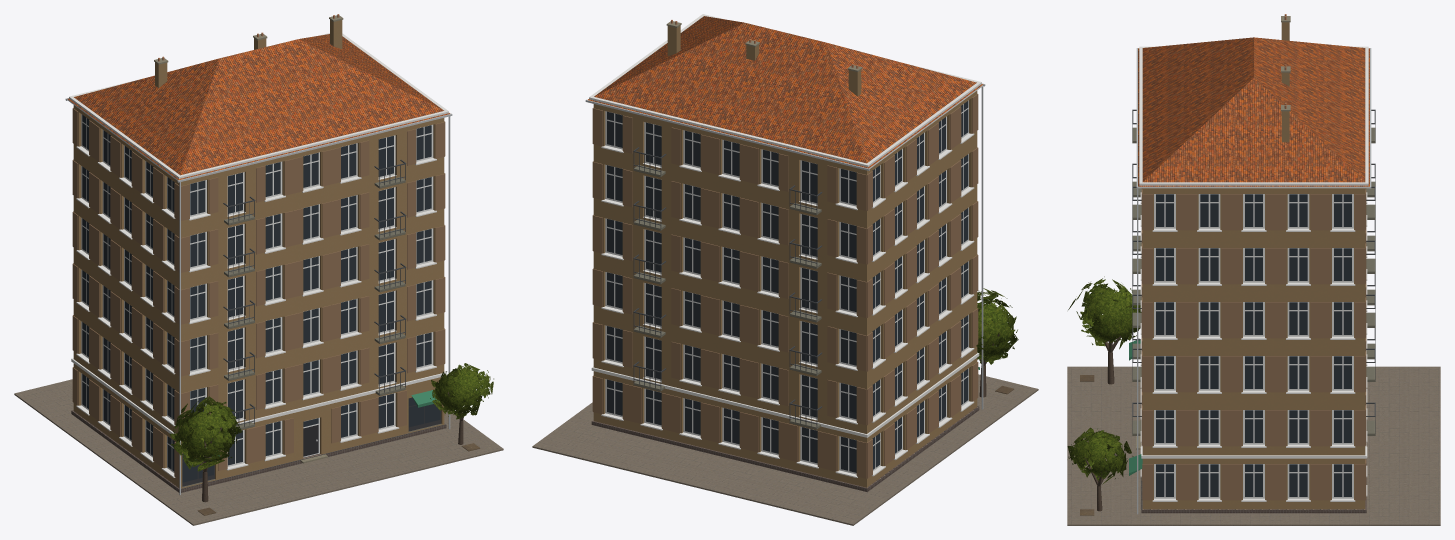
Rendered from euro_apartment.glb.
The picture shows the model from 3 angles, left to right: view 1: azimuth 30°, elevation 25°; view 2: azimuth 150°, elevation 25°; view 3: azimuth 270°, elevation 25°; orthographic projection. The views are drawn at different scales.
Parts seen in each view (by area): view 1: euro_apartment_body, euro_apartment_foliage; view 2: euro_apartment_body, euro_apartment_foliage; view 3: euro_apartment_body, euro_apartment_foliage.
Boxes of the visible parts, x1,y1,x2,y2 form: euro_apartment_body: (14,14,503,525); euro_apartment_foliage: (169,363,493,471); euro_apartment_body: (532,14,1038,525); euro_apartment_foliage: (976,288,1018,364); euro_apartment_body: (1067,14,1440,525); euro_apartment_foliage: (1067,276,1141,484).
Size of the model in its own units: 0.94 by 1.08 by 0.94.
22 materials, 10 textured.
